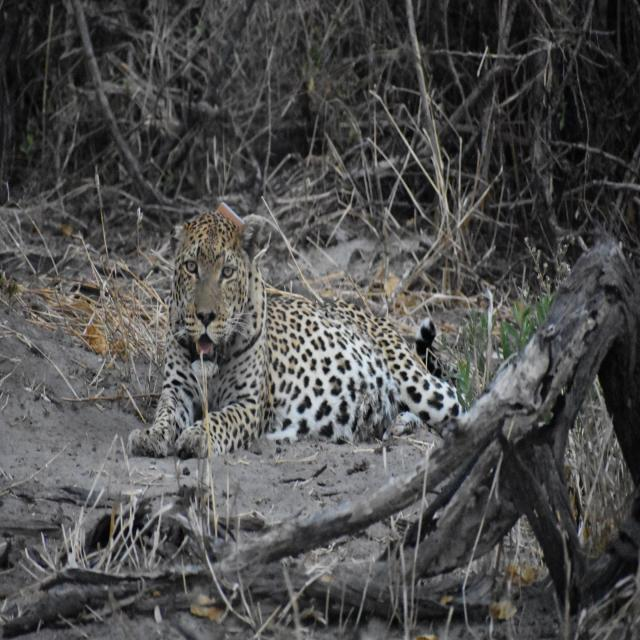Leopard: (137, 212, 467, 466)
